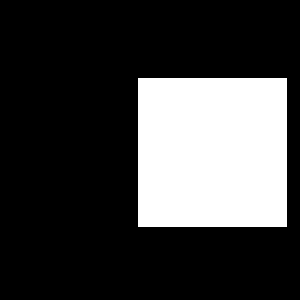circle: (138, 78, 287, 227)
